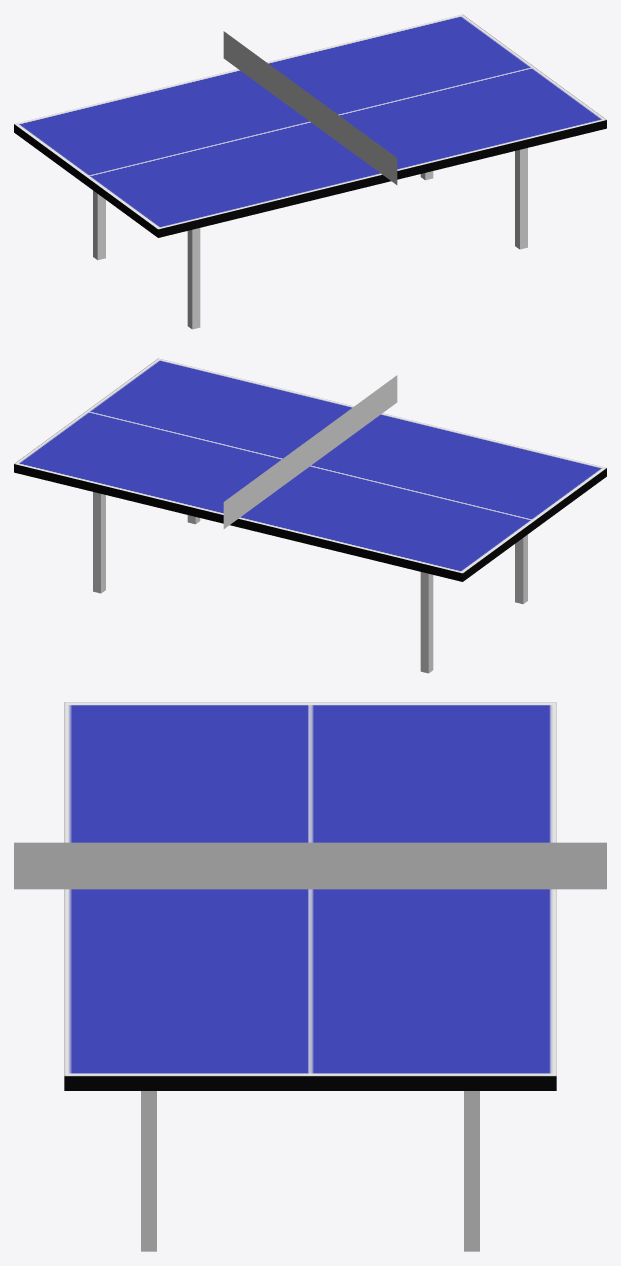
Rendered from tabletennis_table_realsize.dae.
3 views of the same model, one above another, from view 1: azimuth 30°, elevation 25°; view 2: azimuth 150°, elevation 25°; view 3: azimuth 270°, elevation 25° (orthographic). The views are drawn at different scales.
Parts seen in each view (by area): view 1: Cube.011, Plane, Cube.014, Cube.001, Cube.015; view 2: Cube.011, Plane, Cube.015, Cube.019, Cube.014; view 3: Cube.011, Plane, Cube.019, Cube.001.
Part boxes in pixels (bbox=[...]): Cube.011: bbox=[14, 14, 606, 237]; Plane: bbox=[223, 31, 397, 184]; Cube.014: bbox=[187, 228, 200, 329]; Cube.001: bbox=[515, 148, 527, 249]; Cube.015: bbox=[93, 190, 105, 260]; Cube.011: bbox=[14, 358, 606, 581]; Plane: bbox=[223, 375, 397, 528]; Cube.015: bbox=[420, 572, 433, 673]; Cube.019: bbox=[93, 492, 105, 593]; Cube.014: bbox=[515, 534, 527, 604]; Cube.011: bbox=[64, 702, 556, 1090]; Plane: bbox=[14, 842, 606, 889]; Cube.019: bbox=[464, 1091, 479, 1251]; Cube.001: bbox=[141, 1091, 156, 1251].
Bounding box in the file's own units: 2.74 × 1.84 × 0.92.
Materials: 4 (2 with a texture image).
